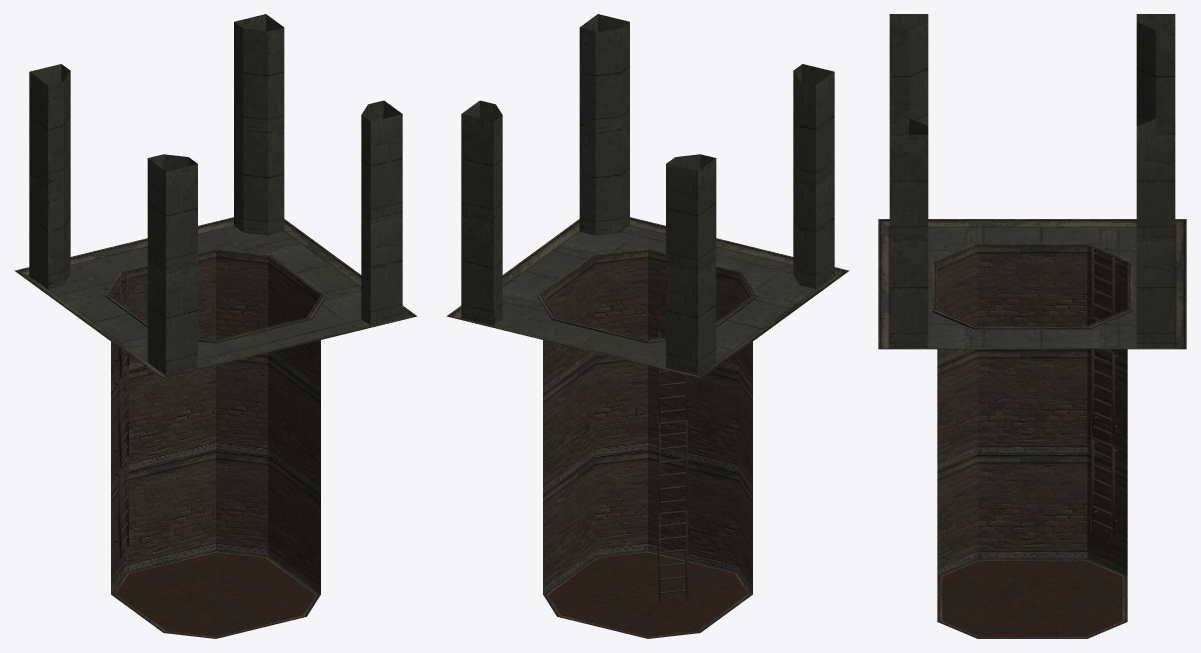
File: structure_piece_rg_1_1.glb
3 views of the same model, side by side, from view 1: azimuth 30°, elevation 25°; view 2: azimuth 150°, elevation 25°; view 3: azimuth 270°, elevation 25° (orthographic). The views are drawn at different scales.
Visible parts, largest first — view 1: structure_piece_rg_1_1; view 2: structure_piece_rg_1_1; view 3: structure_piece_rg_1_1.
Boxes of the visible parts, box(x1,y1,x2,y2) form: structure_piece_rg_1_1: box(14, 14, 417, 638); structure_piece_rg_1_1: box(446, 14, 849, 638); structure_piece_rg_1_1: box(878, 14, 1186, 638).
Size of the model in its own units: 8 by 15 by 8.
Materials: 4 (4 with a texture image).
